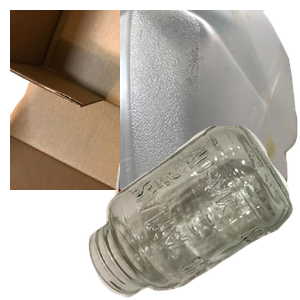cardboard: (10, 10, 250, 190)
glass: (86, 126, 300, 300)
plastic: (120, 10, 300, 190)
trash: (105, 152, 280, 300)
